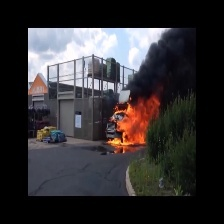fire: (105, 91, 161, 148)
